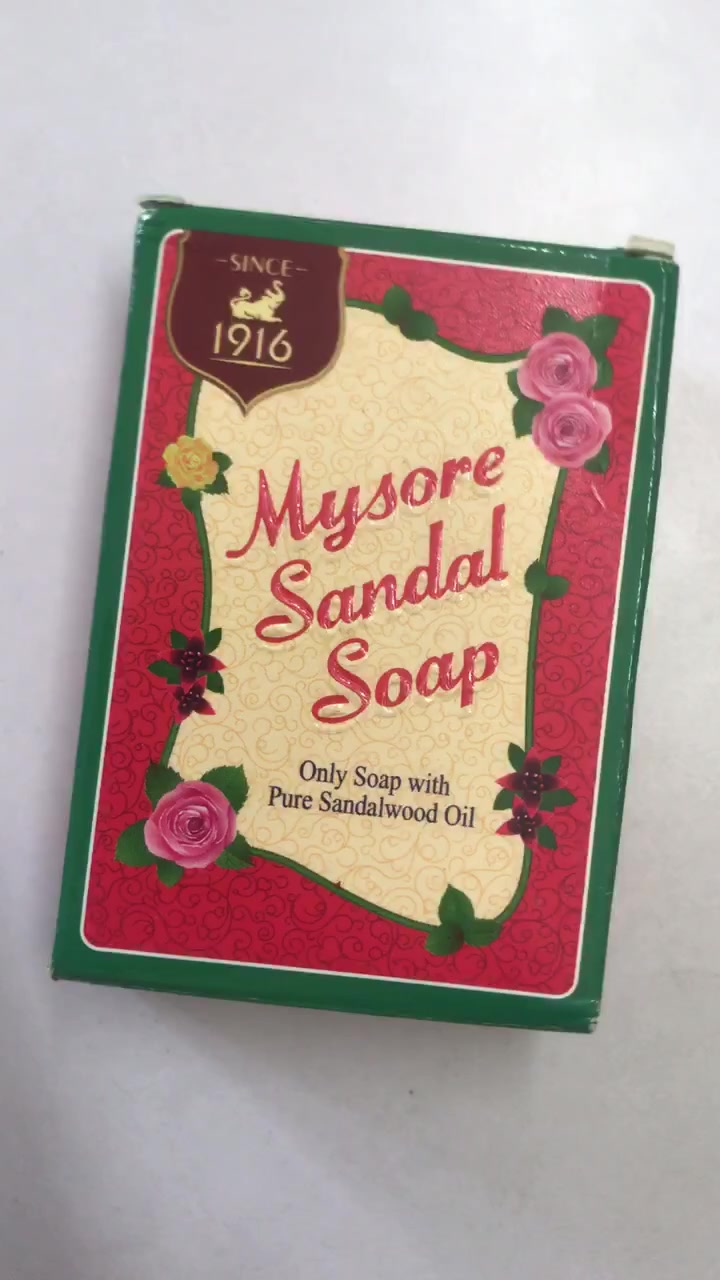mysore sandal soap: (56, 207, 678, 1032)
